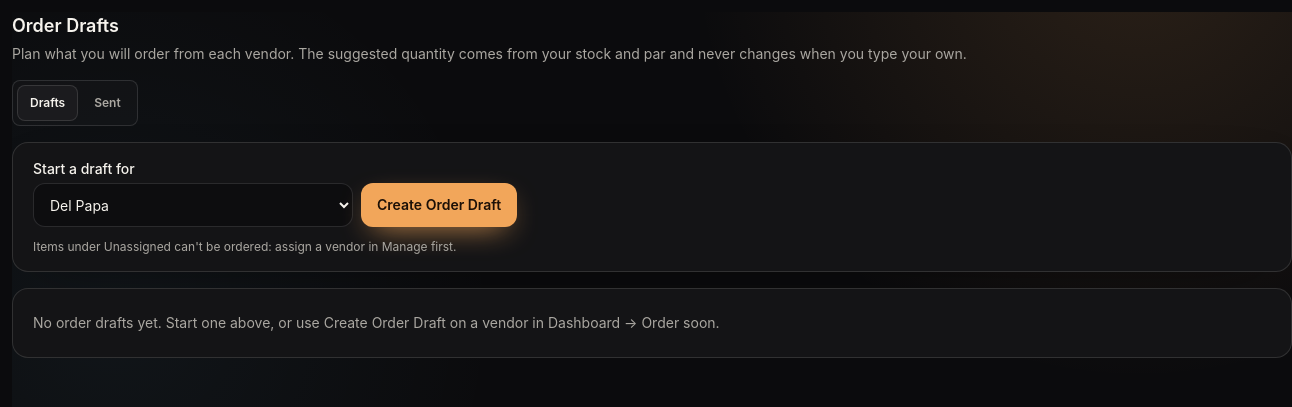
Scenario: Order Drafts view states (VOD-006, loading/empty/error) › surfaces a refusal from creating a draft
The image size is (1292, 407).
What coordinates should you click on to do the following:
click the button "Create Order Draft"
I would click on:
 (439, 205)
Its box is [361, 183, 517, 227].
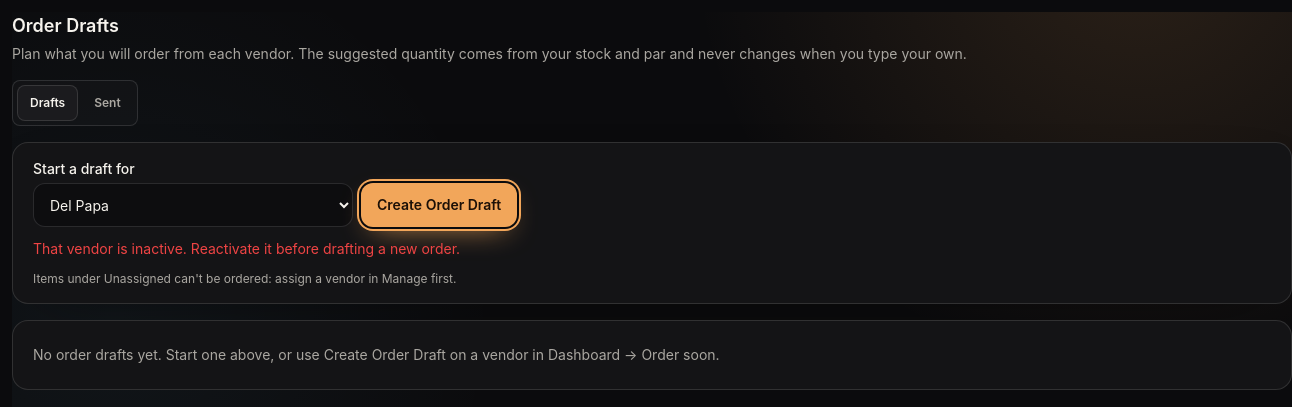
Now the message shows "inactive", box [33, 240, 460, 257]
